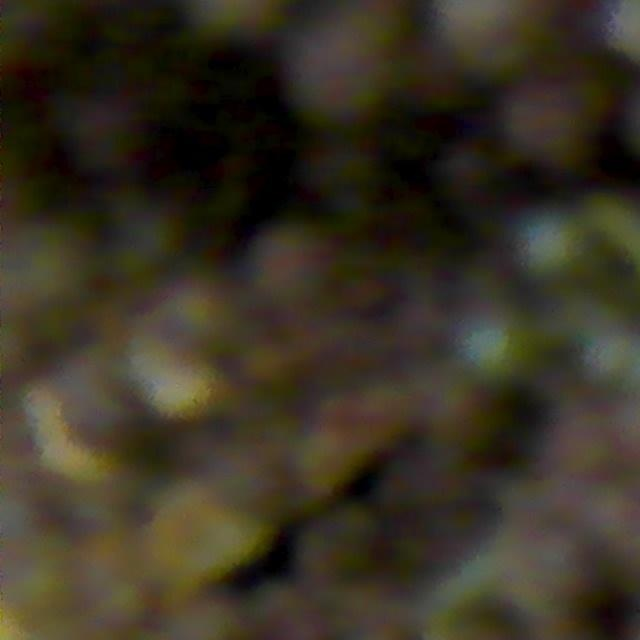SeaGrape: (281, 0, 420, 119), (420, 0, 553, 86), (245, 221, 336, 311), (498, 85, 588, 169), (158, 278, 239, 356), (455, 307, 532, 385), (513, 209, 586, 279), (436, 140, 492, 196)
